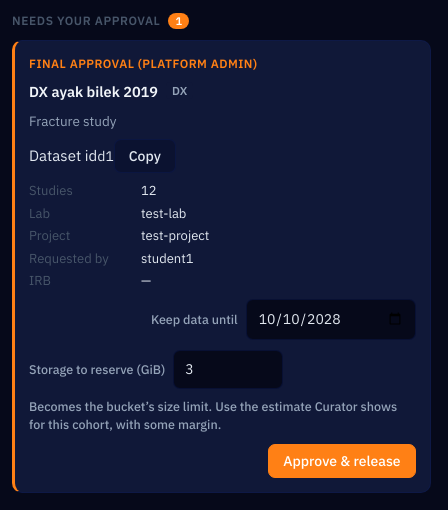
Test case: ApprovalsInbox — reserving storage at the final approval › starts from what the request already reserved, and refuses text that is not an amount
The width and height of the screenshot is (448, 510).
Replace the text in the field labelled "Storage to reserve (GiB)" with "lots" at (228, 369), box x1=173 y1=350 x2=283 y2=388
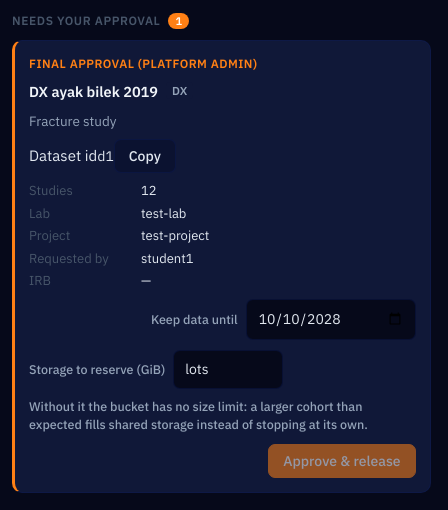
Expected: the button "Approve & release" is disabled, x1=268 y1=444 x2=416 y2=478
